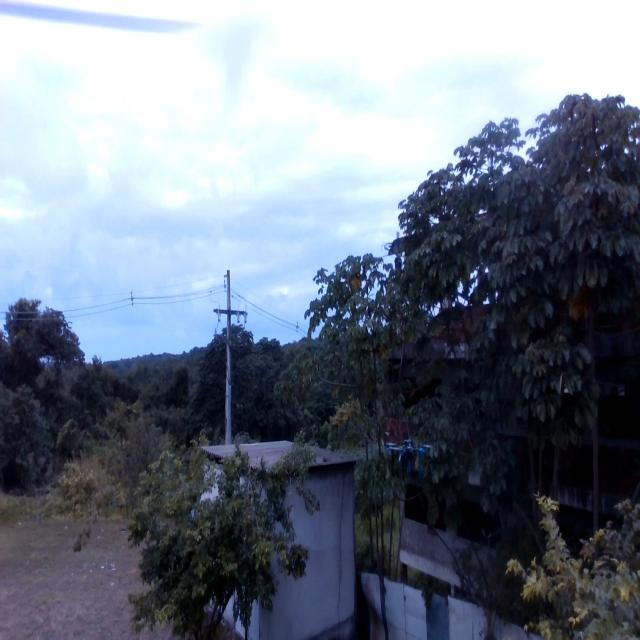-uav-: (383, 418, 437, 492)
